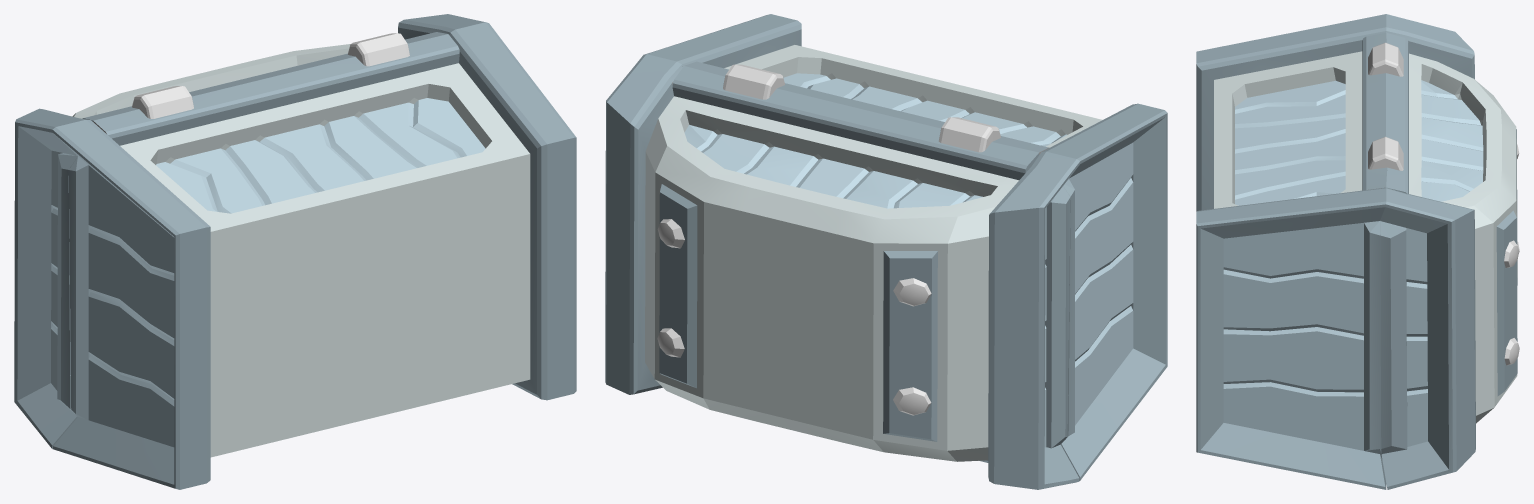
Rendered from NewNormalChest.fbx.
3 views of the same model, side by side, from view 1: azimuth 30°, elevation 25°; view 2: azimuth 150°, elevation 25°; view 3: azimuth 270°, elevation 25° (orthographic). The views are drawn at different scales.
Parts seen in each view (by area): view 1: Treasure_Chest_1c, Opened_13; view 2: Opened_13, Treasure_Chest_1c; view 3: Treasure_Chest_1c, Opened_13.
Boxes of the visible parts, x1,y1,x2,y2 form: Treasure_Chest_1c: (52, 22, 576, 489); Opened_13: (14, 14, 485, 448); Opened_13: (605, 54, 1080, 489); Treasure_Chest_1c: (646, 14, 1167, 480); Treasure_Chest_1c: (1196, 14, 1403, 489); Opened_13: (1380, 14, 1519, 489).
Size of the model in its own units: 84.79 by 61.66 by 60.69.
